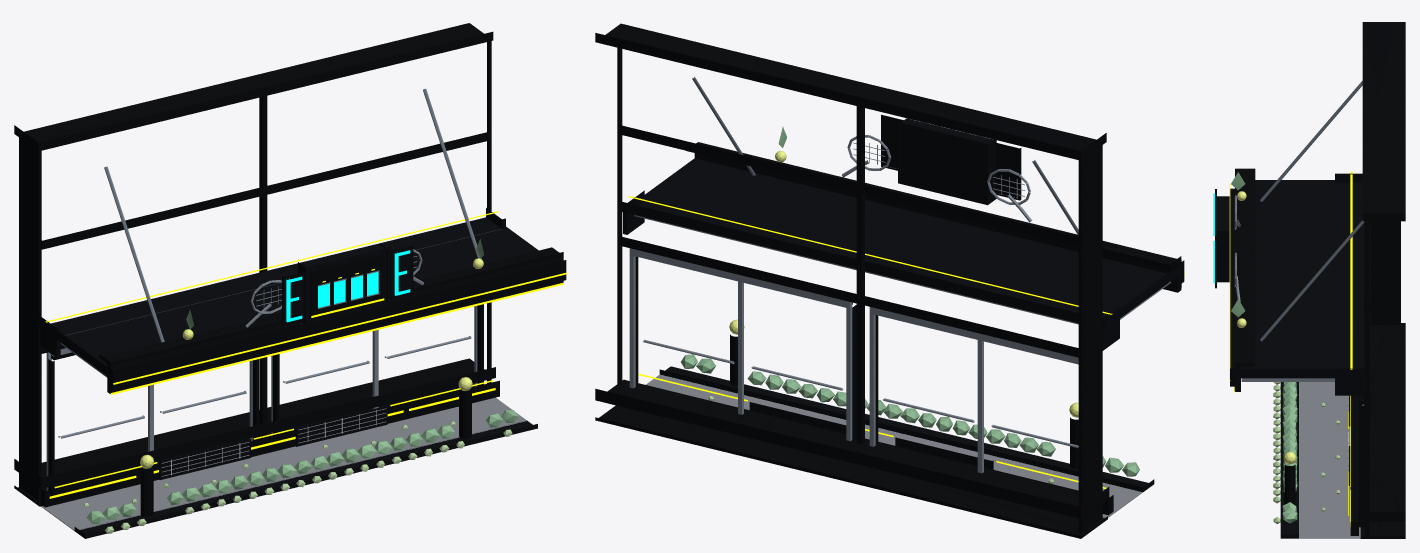
File: tt_arc_entrance_e_scissor.glb
3 views of the same model, side by side, from view 1: azimuth 30°, elevation 25°; view 2: azimuth 150°, elevation 25°; view 3: azimuth 270°, elevation 25° (orthographic). The views are drawn at different scales.
Parts seen in each view (by area): view 1: Frame, Canopy, Fascia_Gunmetal, Threshold_Mat, Hedge_Edge, Terrace_Kerb, Kick_Panels, Fascia_Slate, Court_Line_LED, Scoreboard, Scoreboard_Well, Door_Stiles (+11 smaller); view 2: Frame, Canopy, Door_Stiles, Scoreboard, Terrace_Kerb, Threshold_Mat, Hedge_Edge, Fascia_Slate, Fascia_Gunmetal, Glyph_Plaque, Kick_Panels, Push_Bars (+5 smaller); view 3: Frame, Canopy, Threshold_Mat, Fascia_Gunmetal, Hedge_Edge, Terrace_Kerb, Scoreboard, Tie_Rods, Court_Line_LED, Hedge_Edge_Light, Ball_Bollards, Canopy_Soffit (+2 smaller).
Part boxes in pixels (<box>): Frame: <box>14,23,499,507</box>; Canopy: <box>39,208,538,375</box>; Fascia_Gunmetal: <box>99,247,566,390</box>; Threshold_Mat: <box>41,397,527,530</box>; Hedge_Edge: <box>86,409,518,524</box>; Terrace_Kerb: <box>74,421,537,538</box>; Kick_Panels: <box>159,405,387,479</box>; Fascia_Slate: <box>107,255,563,393</box>; Court_Line_LED: <box>45,211,566,394</box>; Scoreboard: <box>298,243,390,324</box>; Scoreboard_Well: <box>310,254,383,317</box>; Door_Stiles: <box>46,306,477,490</box>; Frame: <box>595,23,1113,538</box>; Canopy: <box>622,158,1177,350</box>; Door_Stiles: <box>629,248,1078,473</box>; Scoreboard: <box>898,118,996,205</box>; Terrace_Kerb: <box>659,366,1154,491</box>; Threshold_Mat: <box>646,374,1142,518</box>; Hedge_Edge: <box>681,354,1139,476</box>; Fascia_Slate: <box>694,153,1181,292</box>; Fascia_Gunmetal: <box>686,142,1184,283</box>; Glyph_Plaque: <box>882,117,1018,198</box>; Kick_Panels: <box>749,402,993,469</box>; Push_Bars: <box>643,339,1078,448</box>; Frame: <box>1350,22,1405,538</box>; Canopy: <box>1240,173,1363,395</box>; Threshold_Mat: <box>1299,382,1359,538</box>; Fascia_Gunmetal: <box>1230,168,1255,386</box>; Hedge_Edge: <box>1282,382,1297,523</box>; Terrace_Kerb: <box>1280,382,1299,538</box>; Scoreboard: <box>1215,196,1229,282</box>; Tie_Rods: <box>1260,81,1364,341</box>; Court_Line_LED: <box>1229,171,1352,392</box>; Hedge_Edge_Light: <box>1273,382,1280,523</box>; Ball_Bollards: <box>1284,464,1295,505</box>; Canopy_Soffit: <box>1241,378,1334,381</box>.
Size of what is drawn, in the model's own units: 8 by 6.1 by 3.26.
Materials: 12 (6 with a texture image).
